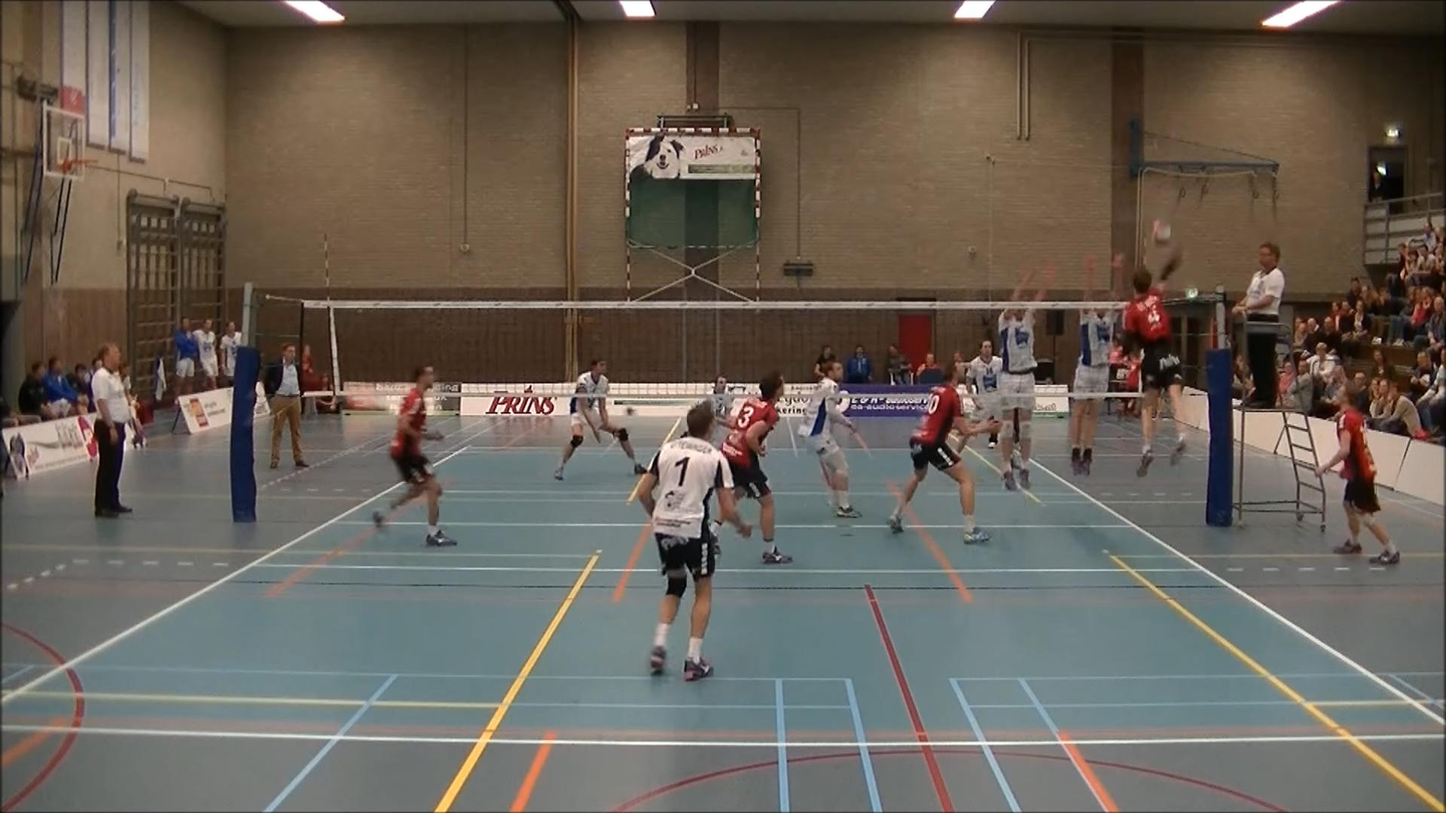Attack: (1113, 241, 1196, 480)
Block: (978, 263, 1046, 503), (1063, 240, 1124, 487)
Player: (639, 403, 751, 680), (889, 365, 999, 543), (721, 373, 792, 564), (389, 366, 456, 547), (554, 359, 645, 480), (798, 359, 861, 517), (964, 340, 1002, 419), (709, 376, 733, 434)
ball: (1151, 216, 1176, 246)
